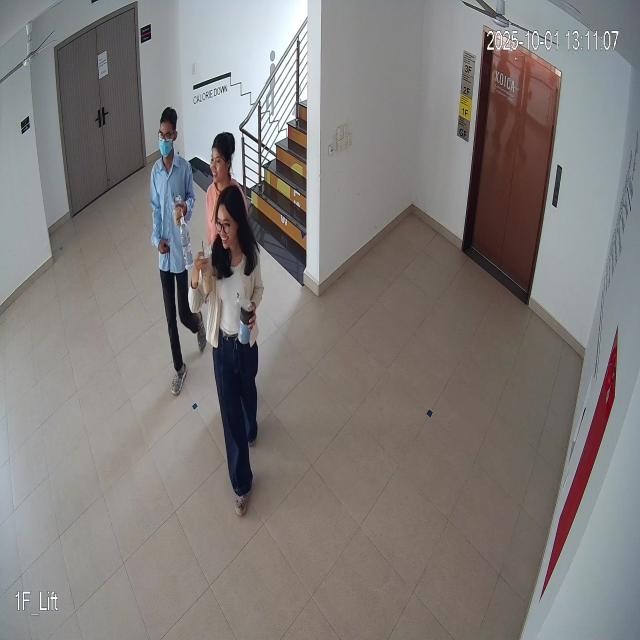face: (210, 181, 252, 255), (205, 124, 235, 186)
